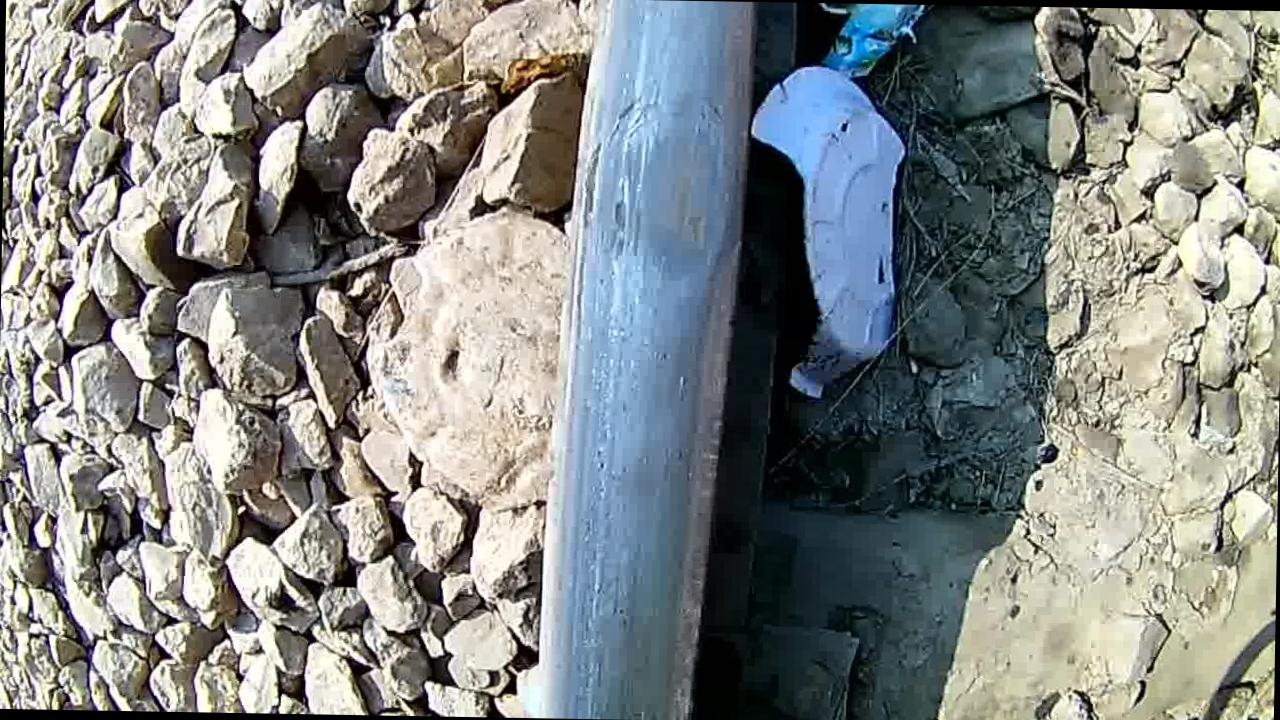bolt_missing: (584, 86, 758, 302)
